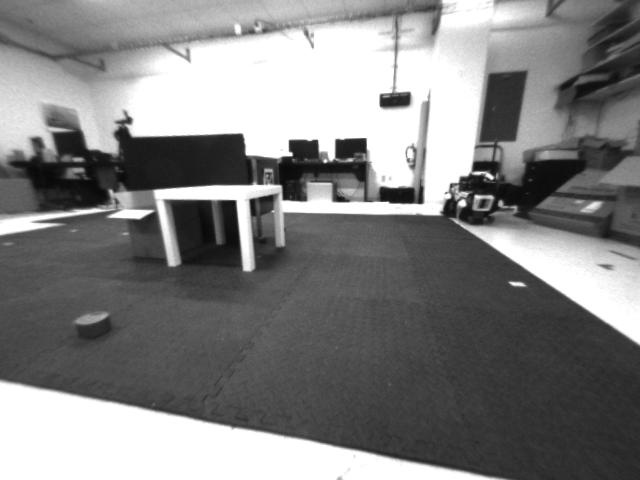dogtoy: (58, 304, 116, 342)
